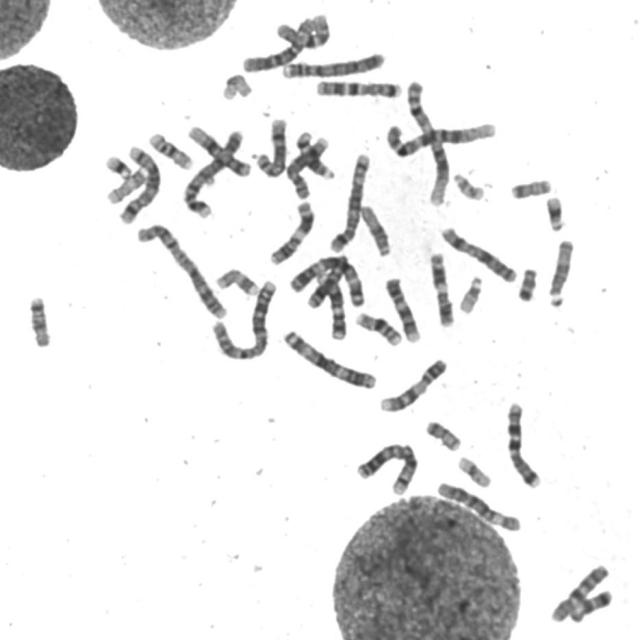A1: (402, 75, 451, 207), (382, 116, 498, 158)
A2: (132, 219, 228, 321), (207, 275, 278, 362)
A3: (278, 325, 378, 390), (285, 251, 367, 308)
B4: (178, 124, 246, 220), (278, 47, 388, 81)
B5: (325, 149, 372, 254), (115, 141, 162, 225)
C10: (546, 560, 611, 624), (273, 10, 332, 50)
C11: (264, 196, 316, 266), (425, 247, 456, 328)
C12: (184, 120, 251, 178), (312, 263, 349, 341)
C6: (432, 476, 524, 534), (237, 11, 320, 74)
C7: (501, 398, 544, 490), (311, 75, 403, 99)
C8: (281, 131, 331, 201), (250, 113, 289, 179)
C9: (375, 354, 449, 414), (382, 273, 422, 344)
D13: (352, 436, 416, 496), (303, 249, 353, 315)
D14: (292, 126, 336, 180)
D15: (544, 234, 576, 310), (356, 200, 393, 258)
E16: (144, 127, 194, 171), (350, 308, 404, 347)
E17: (102, 164, 148, 206), (211, 264, 261, 298)
E18: (564, 585, 615, 624), (24, 291, 53, 349)
F19: (452, 452, 493, 489), (217, 68, 254, 101)
F20: (420, 415, 463, 453), (506, 173, 554, 200)
G21: (100, 150, 134, 181), (541, 192, 567, 232)
G22: (448, 168, 486, 202), (454, 272, 484, 315)
X: (436, 222, 519, 285)
Y: (514, 262, 540, 303)
